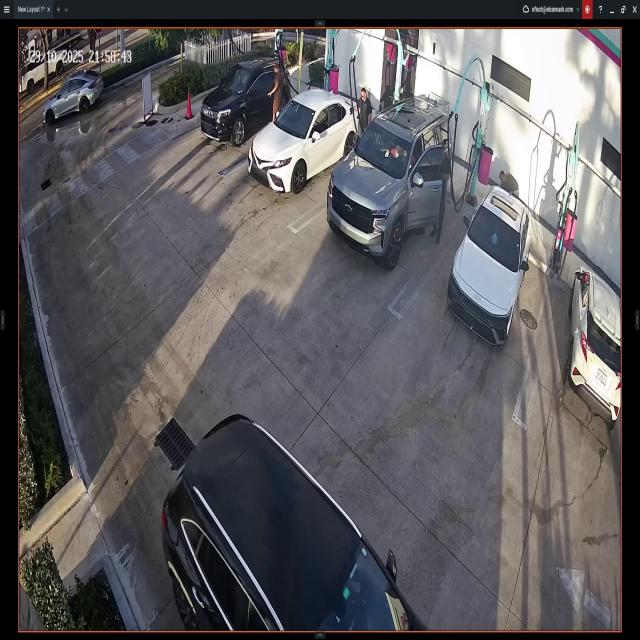Car: (158, 422, 428, 629), (332, 98, 450, 268), (448, 181, 532, 348), (248, 88, 374, 187), (568, 261, 620, 422), (202, 56, 288, 140), (41, 74, 104, 122)
